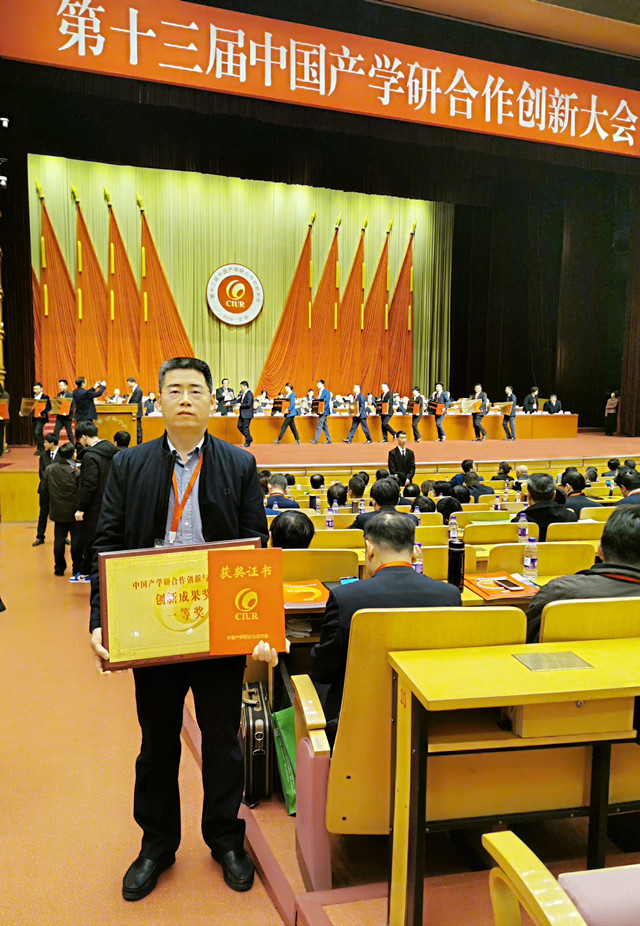noWear: (159, 378, 215, 439), (41, 437, 54, 451), (397, 432, 407, 446), (32, 384, 42, 394), (126, 378, 136, 387), (496, 464, 505, 474), (473, 383, 482, 392), (58, 381, 66, 391), (79, 377, 87, 387), (435, 383, 442, 393), (470, 461, 476, 472), (240, 383, 247, 391), (353, 385, 360, 393), (380, 385, 388, 392), (505, 387, 512, 395), (532, 388, 539, 395), (222, 380, 228, 388), (317, 382, 323, 389), (285, 385, 290, 393), (412, 390, 419, 395), (610, 391, 615, 397), (551, 396, 556, 401)
